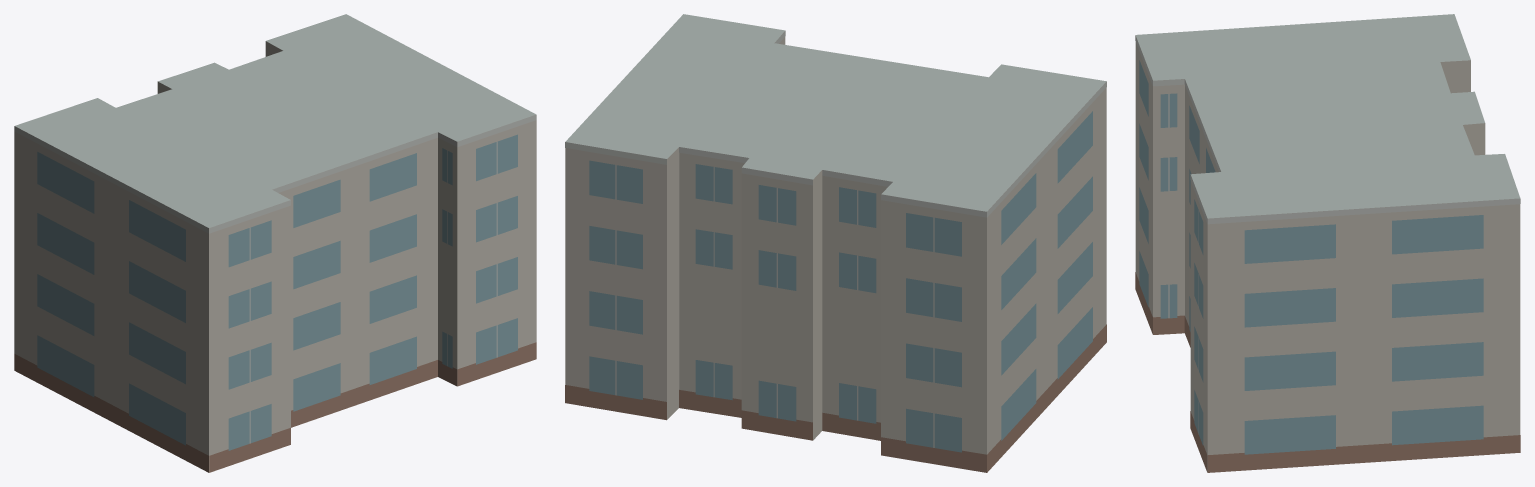
The model's file is survey-upis-32526176.glb.
The picture shows the model from 3 angles, left to right: view 1: azimuth 30°, elevation 25°; view 2: azimuth 150°, elevation 25°; view 3: azimuth 270°, elevation 25°; orthographic projection. The views are drawn at different scales.
Parts seen in each view (by area): view 1: survey-upis-32526176.tmp; view 2: survey-upis-32526176.tmp; view 3: survey-upis-32526176.tmp.
Boxes of the visible parts, bbox=[...] form: survey-upis-32526176.tmp: bbox=[14, 14, 536, 472]; survey-upis-32526176.tmp: bbox=[565, 14, 1106, 472]; survey-upis-32526176.tmp: bbox=[1135, 14, 1520, 472].
Bounding box in the file's own units: 18.64 × 10.8 × 14.83.
